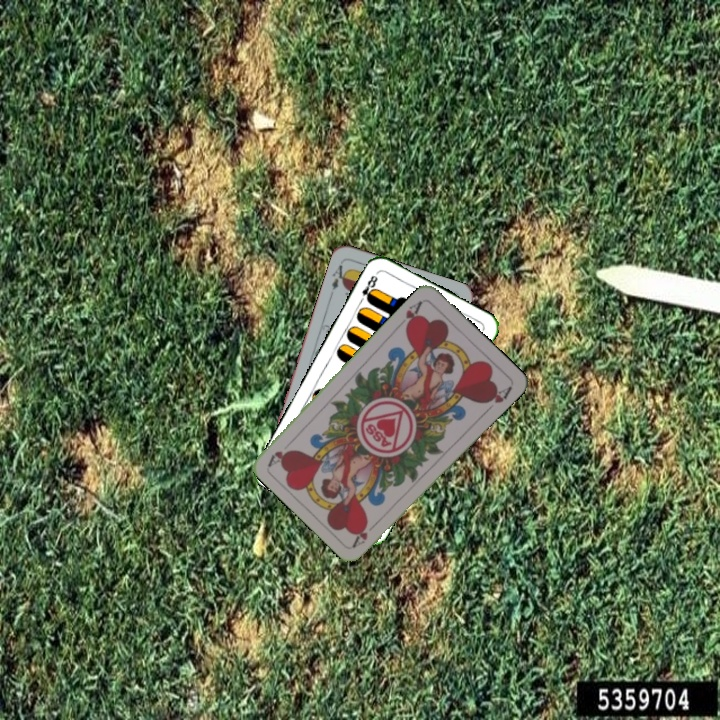E8: (355, 269, 380, 306)
EA: (327, 258, 351, 292)
HA: (349, 516, 382, 549), (401, 296, 425, 333)
